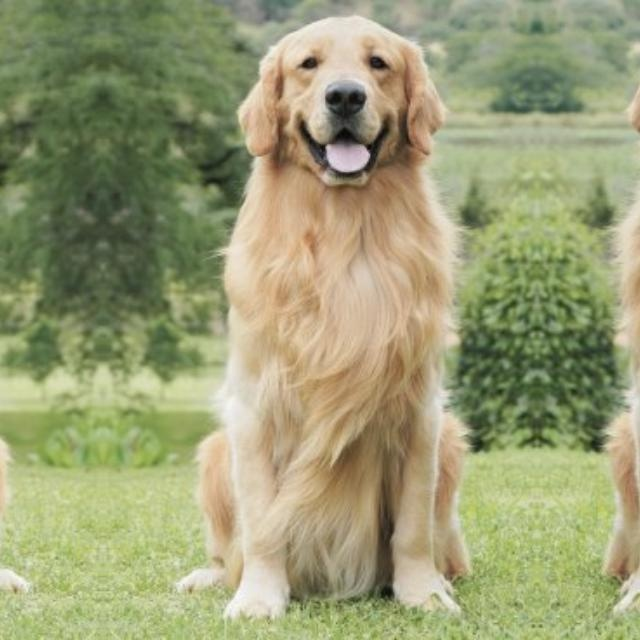dog: (148, 2, 498, 628), (578, 2, 640, 628), (0, 2, 58, 628)
